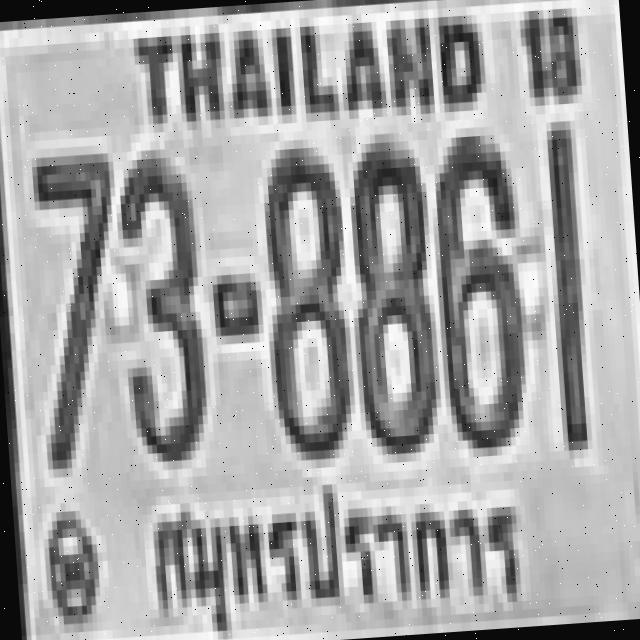1: (538, 116, 590, 446), (538, 121, 590, 442)
3: (110, 147, 208, 463)
6: (426, 125, 530, 450)
7: (26, 144, 129, 469)
8: (341, 136, 439, 452), (255, 137, 352, 453)
SamutPrakan: (135, 459, 539, 640)
